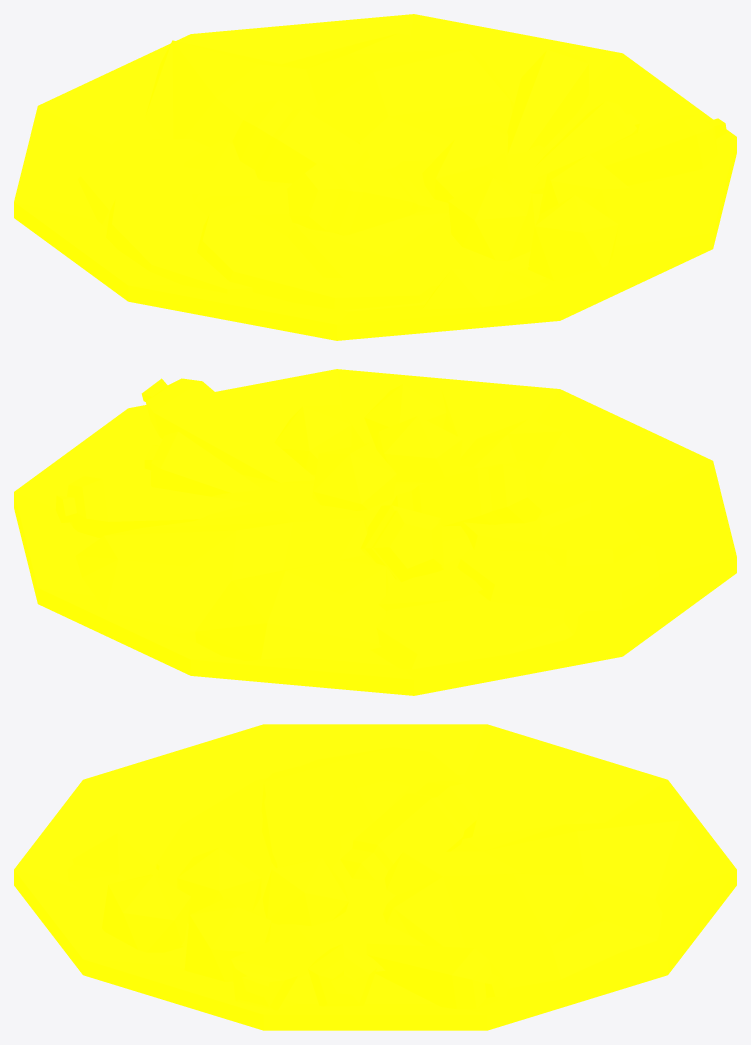
File: plate-dinner-english.glb
3 renders of one model, top to bottom at view 1: azimuth 30°, elevation 25°; view 2: azimuth 150°, elevation 25°; view 3: azimuth 270°, elevation 25°, orthographic. The views are drawn at different scales.
Parts seen in each view (by area): view 1: plate_dinner_english; view 2: plate_dinner_english; view 3: plate_dinner_english.
Part boxes in pixels (x1,y1,x2,y2): plate_dinner_english: [14, 14, 736, 340]; plate_dinner_english: [14, 369, 736, 695]; plate_dinner_english: [14, 724, 736, 1030].
Size of the model in its own units: 0.2995 by 0.0504 by 0.315.
1 material, 1 textured.
